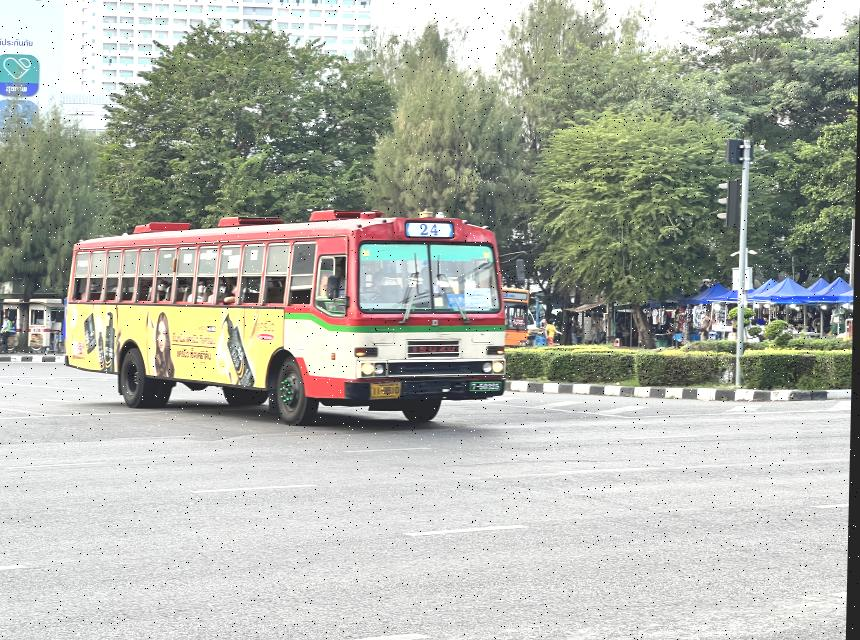BMTA-bus: (65, 210, 511, 426)
Bus Line Number: (404, 222, 456, 238)
Bus Side Number: (470, 381, 505, 393)
Destination Sign: (448, 295, 467, 311)
